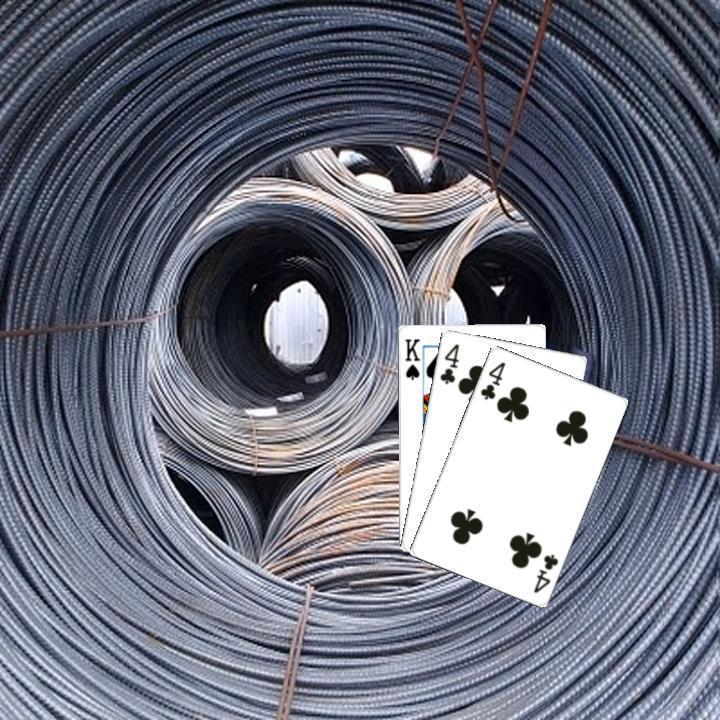4: (529, 549, 560, 595), (476, 357, 507, 401), (435, 339, 460, 386)
K: (400, 334, 421, 382)
